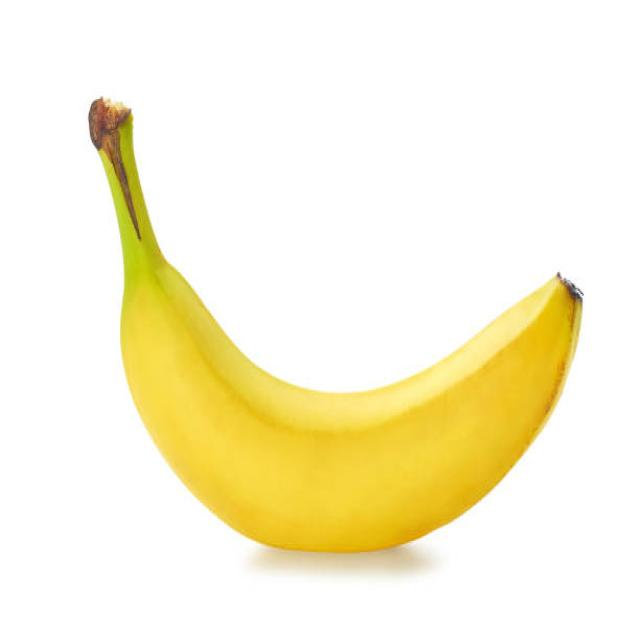Ripe: (87, 96, 586, 557)
